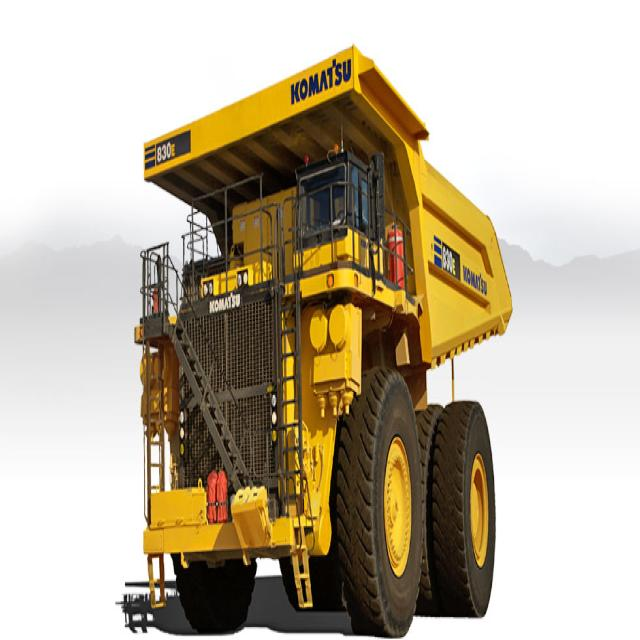dump_truck: (136, 39, 524, 628)
